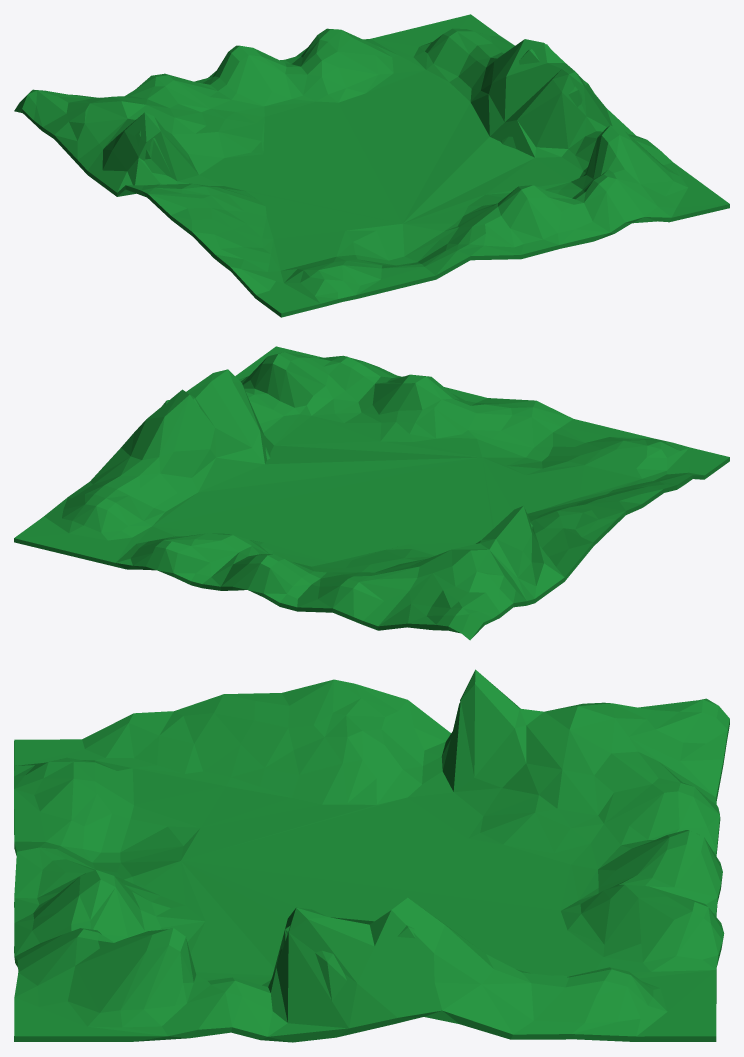
File: floor.glb
3 views of the same model, one above another, from view 1: azimuth 30°, elevation 25°; view 2: azimuth 150°, elevation 25°; view 3: azimuth 270°, elevation 25° (orthographic). The views are drawn at different scales.
Visible parts, largest first — view 1: Plane; view 2: Plane; view 3: Plane.
Part boxes in pixels (x1=…): Plane: x1=14, y1=14, x2=729, y2=317; Plane: x1=14, y1=346, x2=729, y2=640; Plane: x1=14, y1=669, x2=729, y2=1042.
Bounding box in the file's own units: 12.45 × 2.29 × 12.27.
